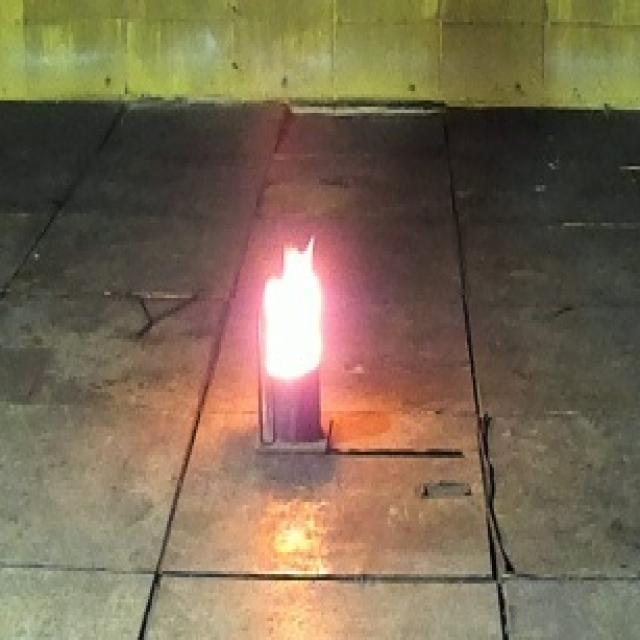Fire: (263, 234, 323, 380)
